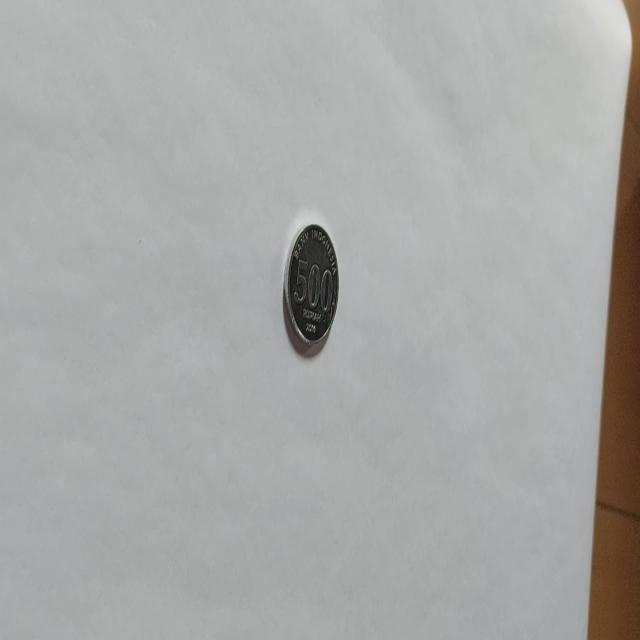lima ratus rupiah: (282, 222, 340, 358)
